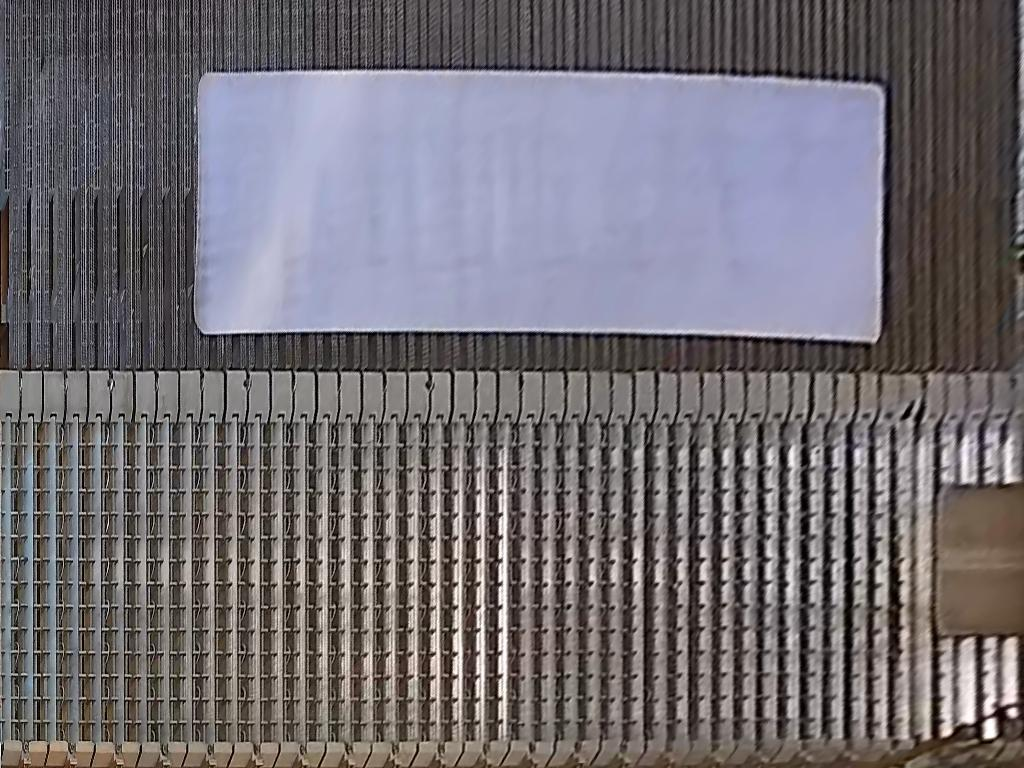steel: (193, 68, 884, 342), (934, 481, 1024, 635)
